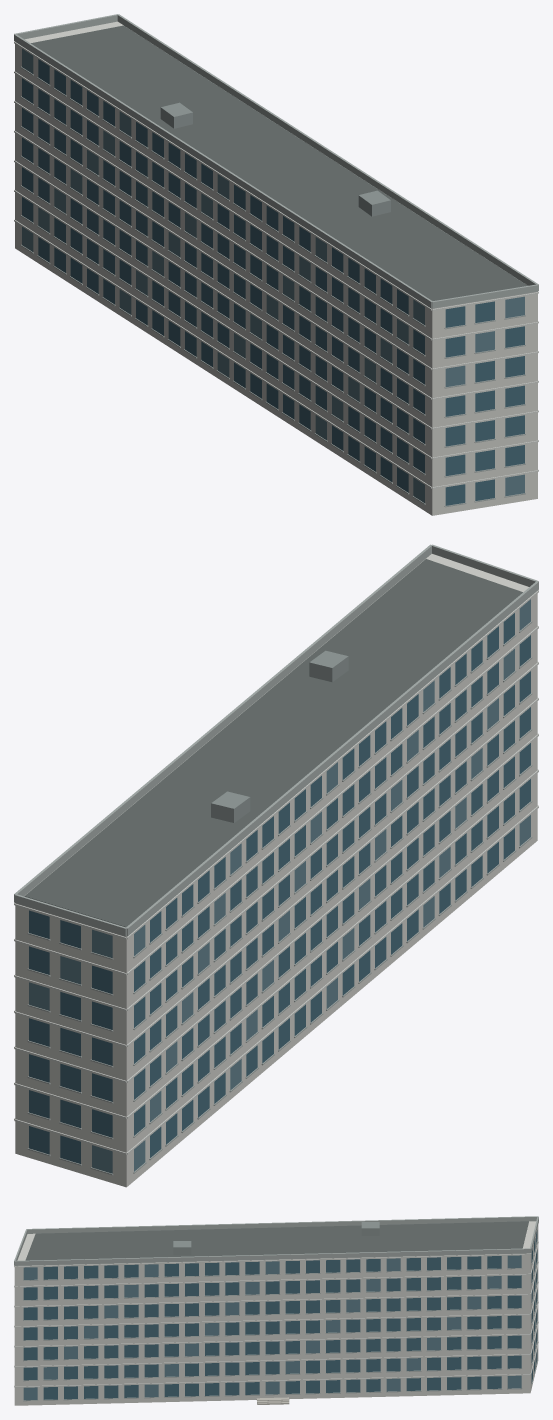
Rendered from 核心区南侧-013.glb.
3 renders of one model, top to bottom at view 1: azimuth 30°, elevation 25°; view 2: azimuth 150°, elevation 25°; view 3: azimuth 270°, elevation 25°, orthographic. The views are drawn at different scales.
Visible parts, largest first — view 1: 核心区南侧-013; view 2: 核心区南侧-013; view 3: 核心区南侧-013.
Part boxes in pixels (x1,y1,x2,y2): 核心区南侧-013: (14,14,538,515); 核心区南侧-013: (14,544,538,1187); 核心区南侧-013: (14,1216,538,1405).
Bounding box in the file's own units: 16.64 × 25.42 × 81.4.
